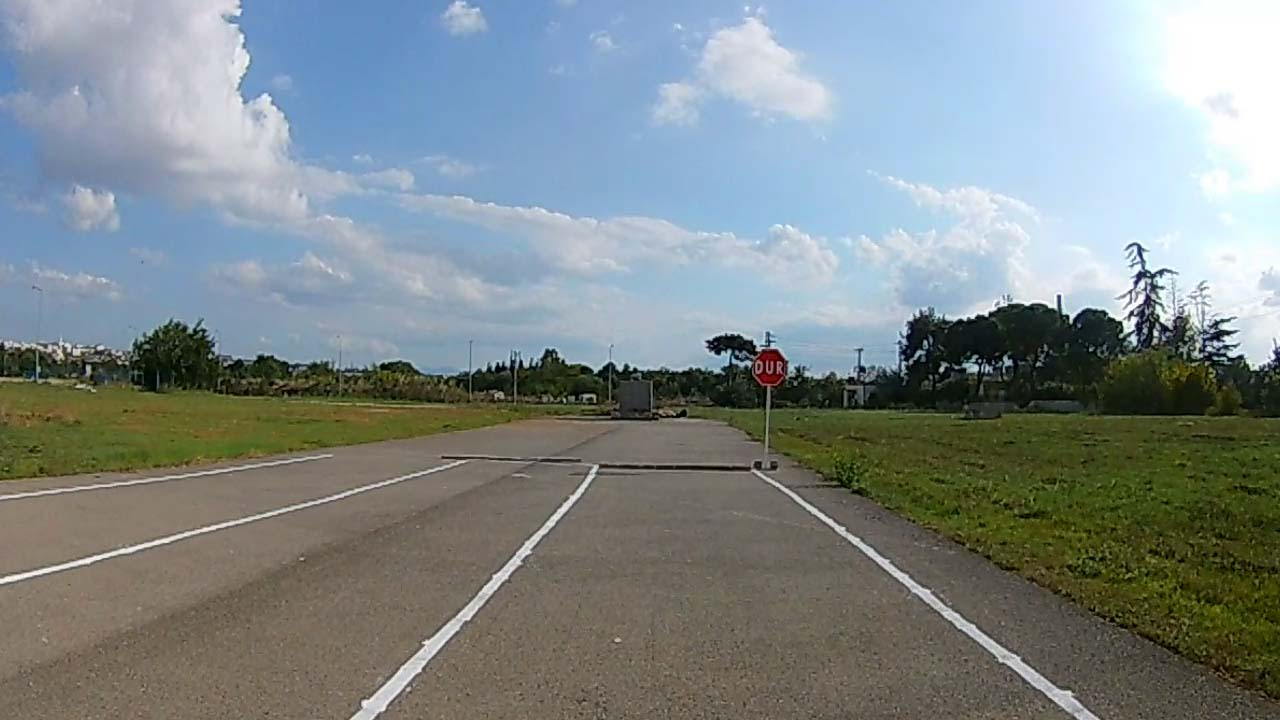arac_dur_isareti: (714, 322, 829, 487)
max_hiz_30: (677, 278, 850, 493)
